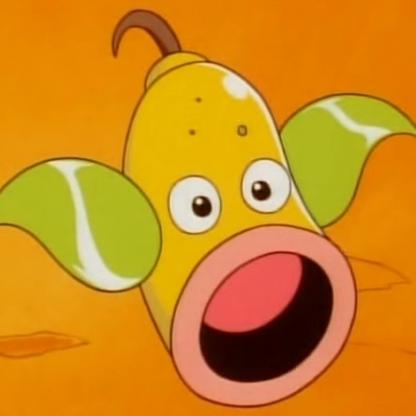Weepinbell: (5, 9, 410, 405)
